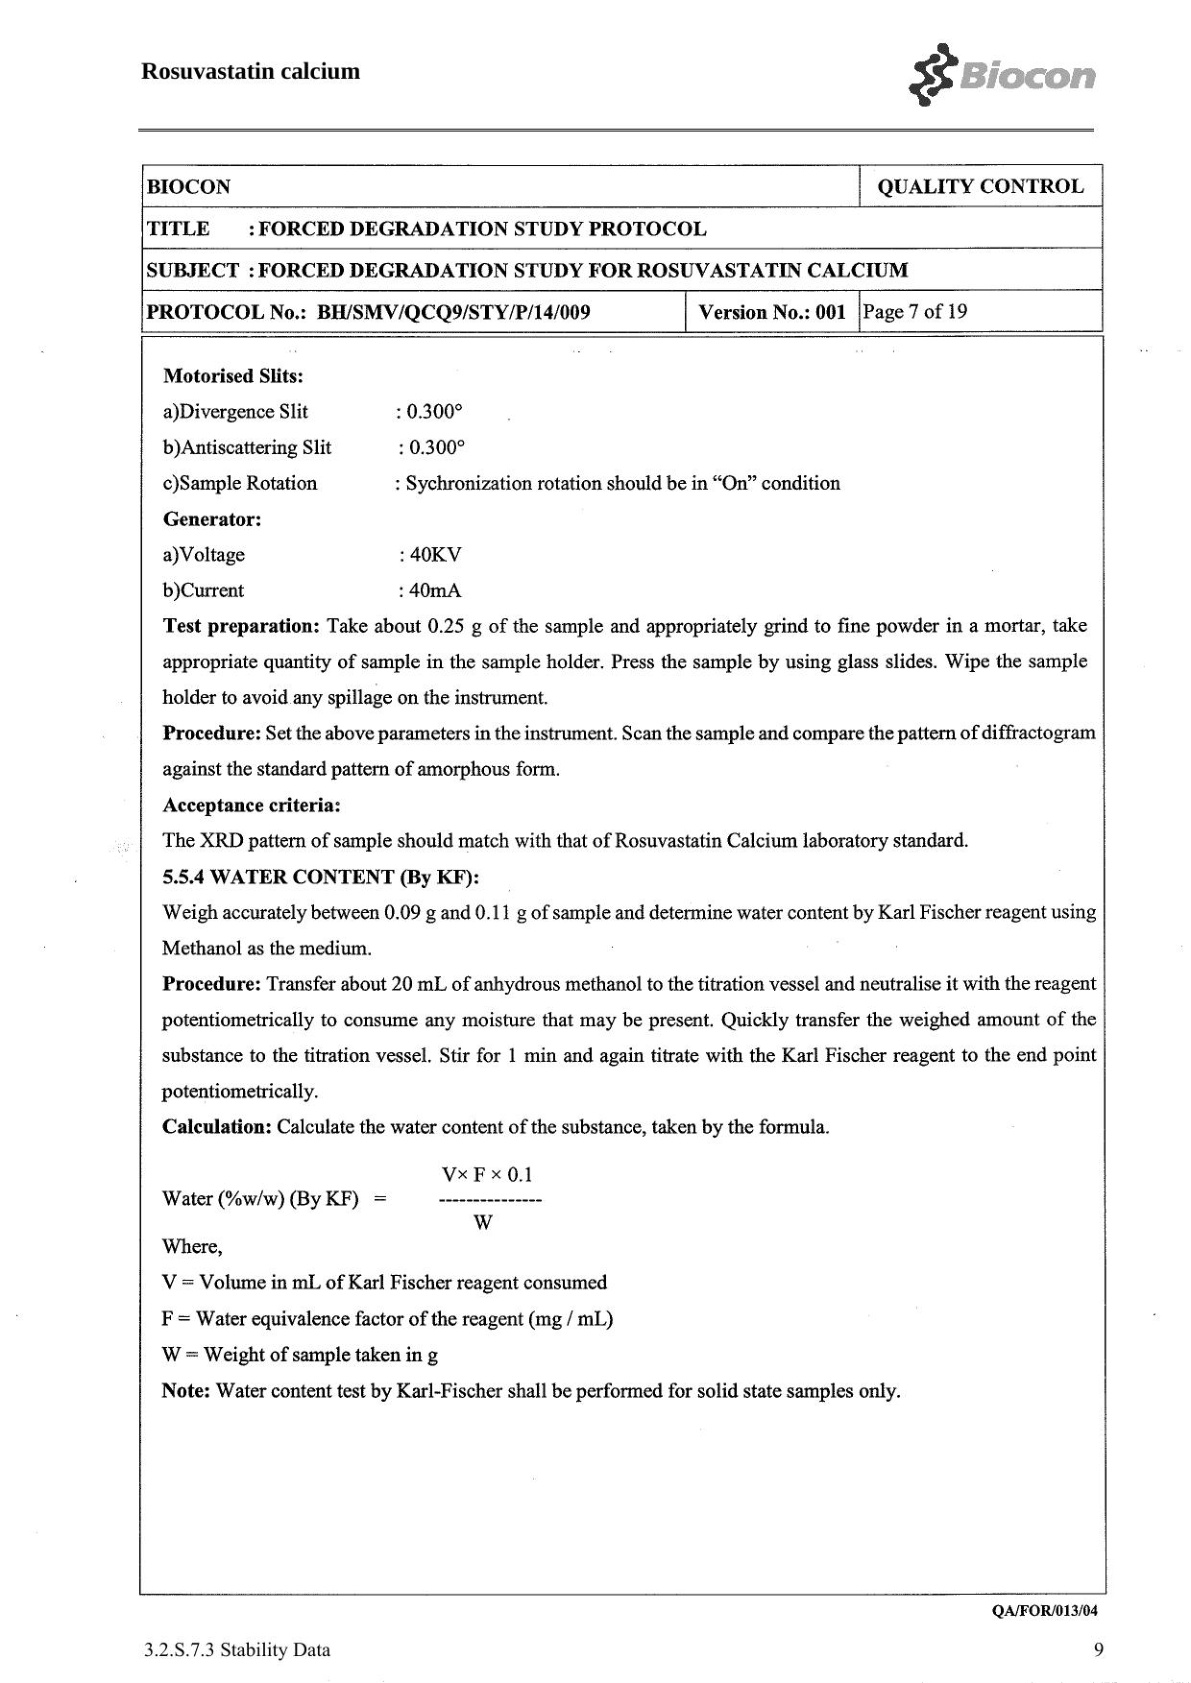merged_cells: (140, 162, 1105, 332)
